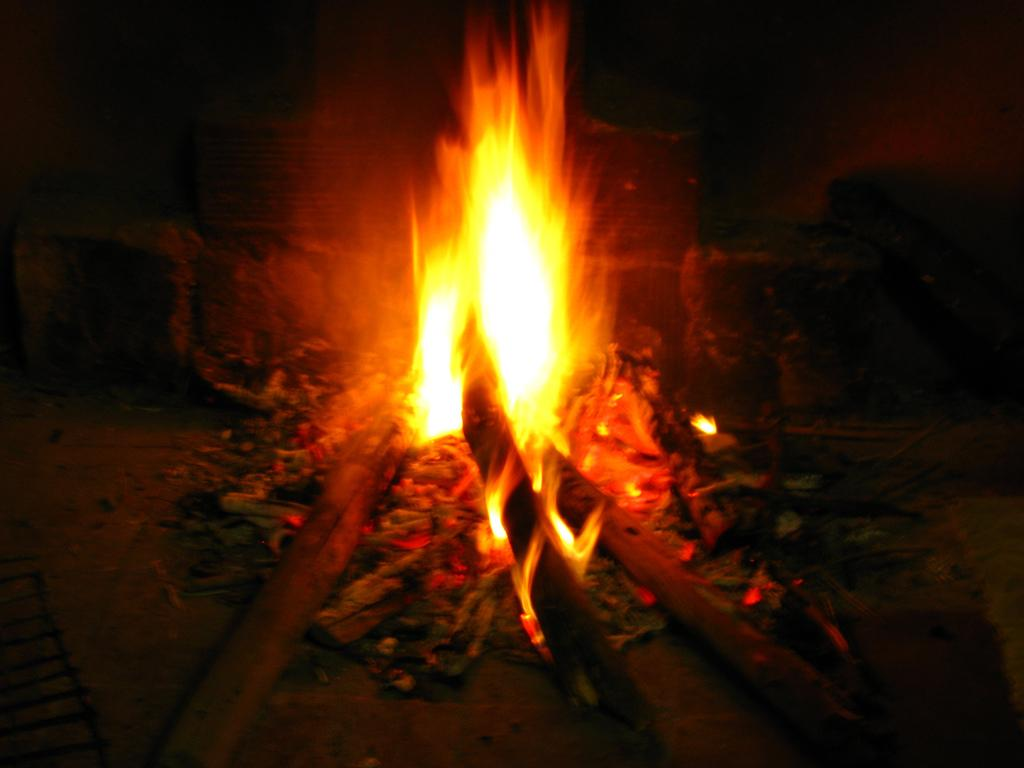fire: (478, 202, 554, 386)
